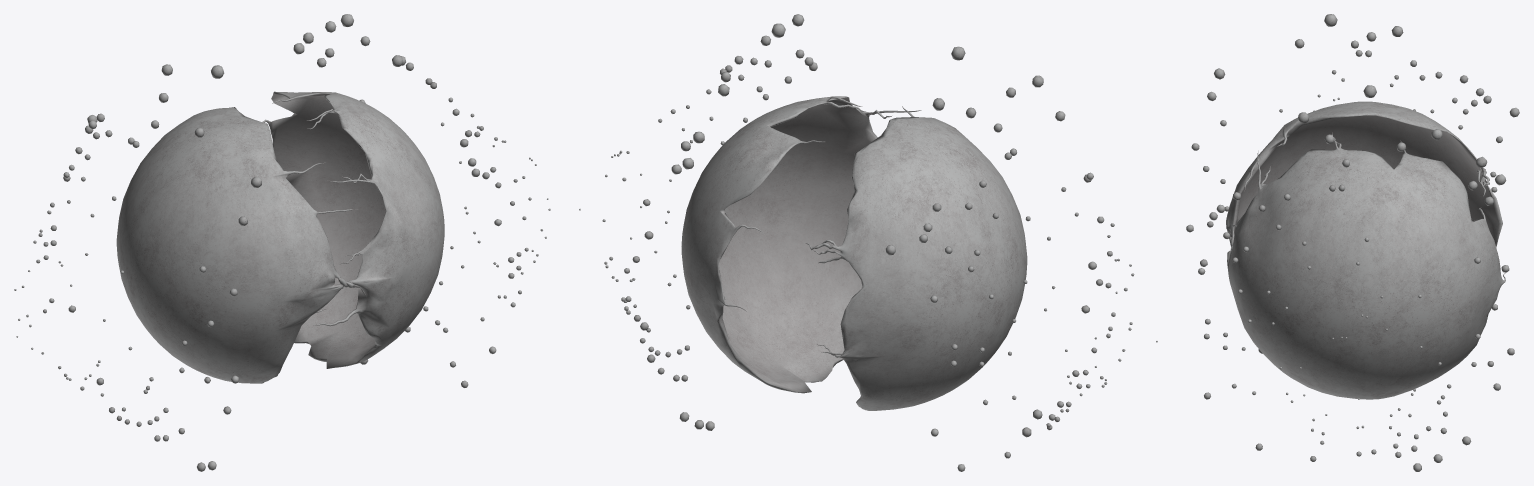
Rendered from polarization_test.obj.
The picture shows the model from 3 angles, left to right: view 1: azimuth 30°, elevation 25°; view 2: azimuth 150°, elevation 25°; view 3: azimuth 270°, elevation 25°; orthographic projection. The views are drawn at different scales.
Visible parts, largest first — view 1: Object039_1; view 2: Object039_1; view 3: Object039_1.
Part boxes in pixels (bbox=[...]): Object039_1: bbox=[14, 14, 550, 471]; Object039_1: bbox=[579, 14, 1157, 471]; Object039_1: bbox=[1186, 14, 1519, 471].
Size of the model in its own units: 1030 by 688 by 566.
Materials: 1 (1 with a texture image).
